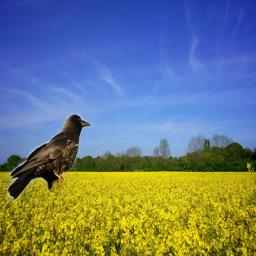Crow: (7, 111, 93, 203)
